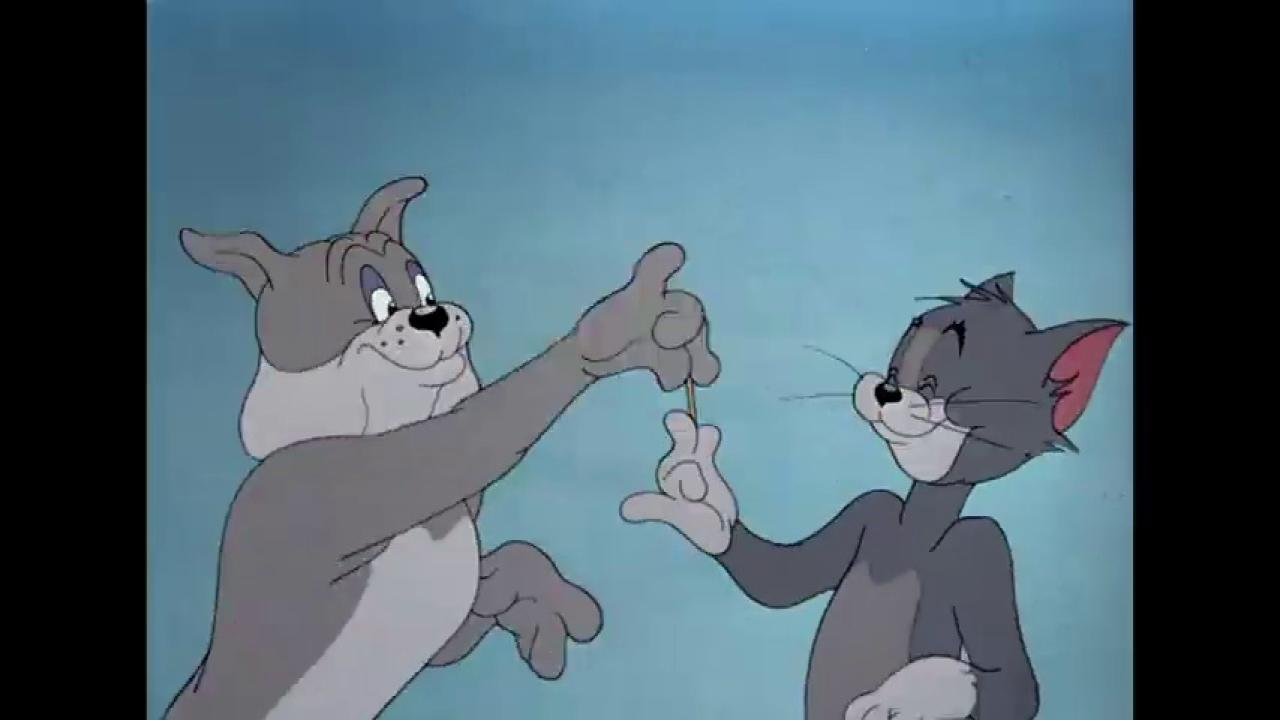Tom: (618, 267, 1133, 720)
